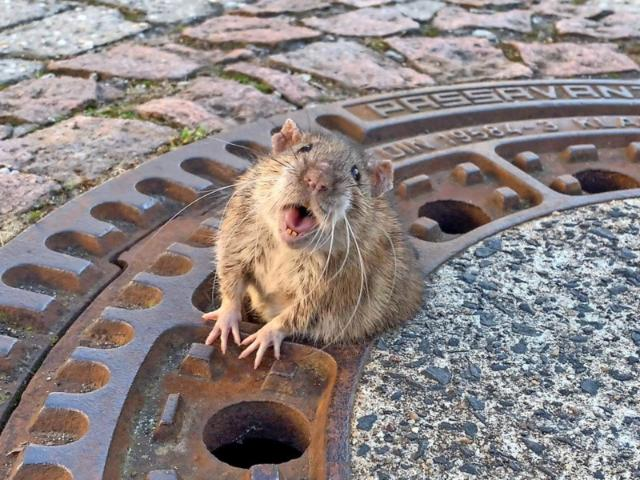rat: (193, 115, 433, 371)
